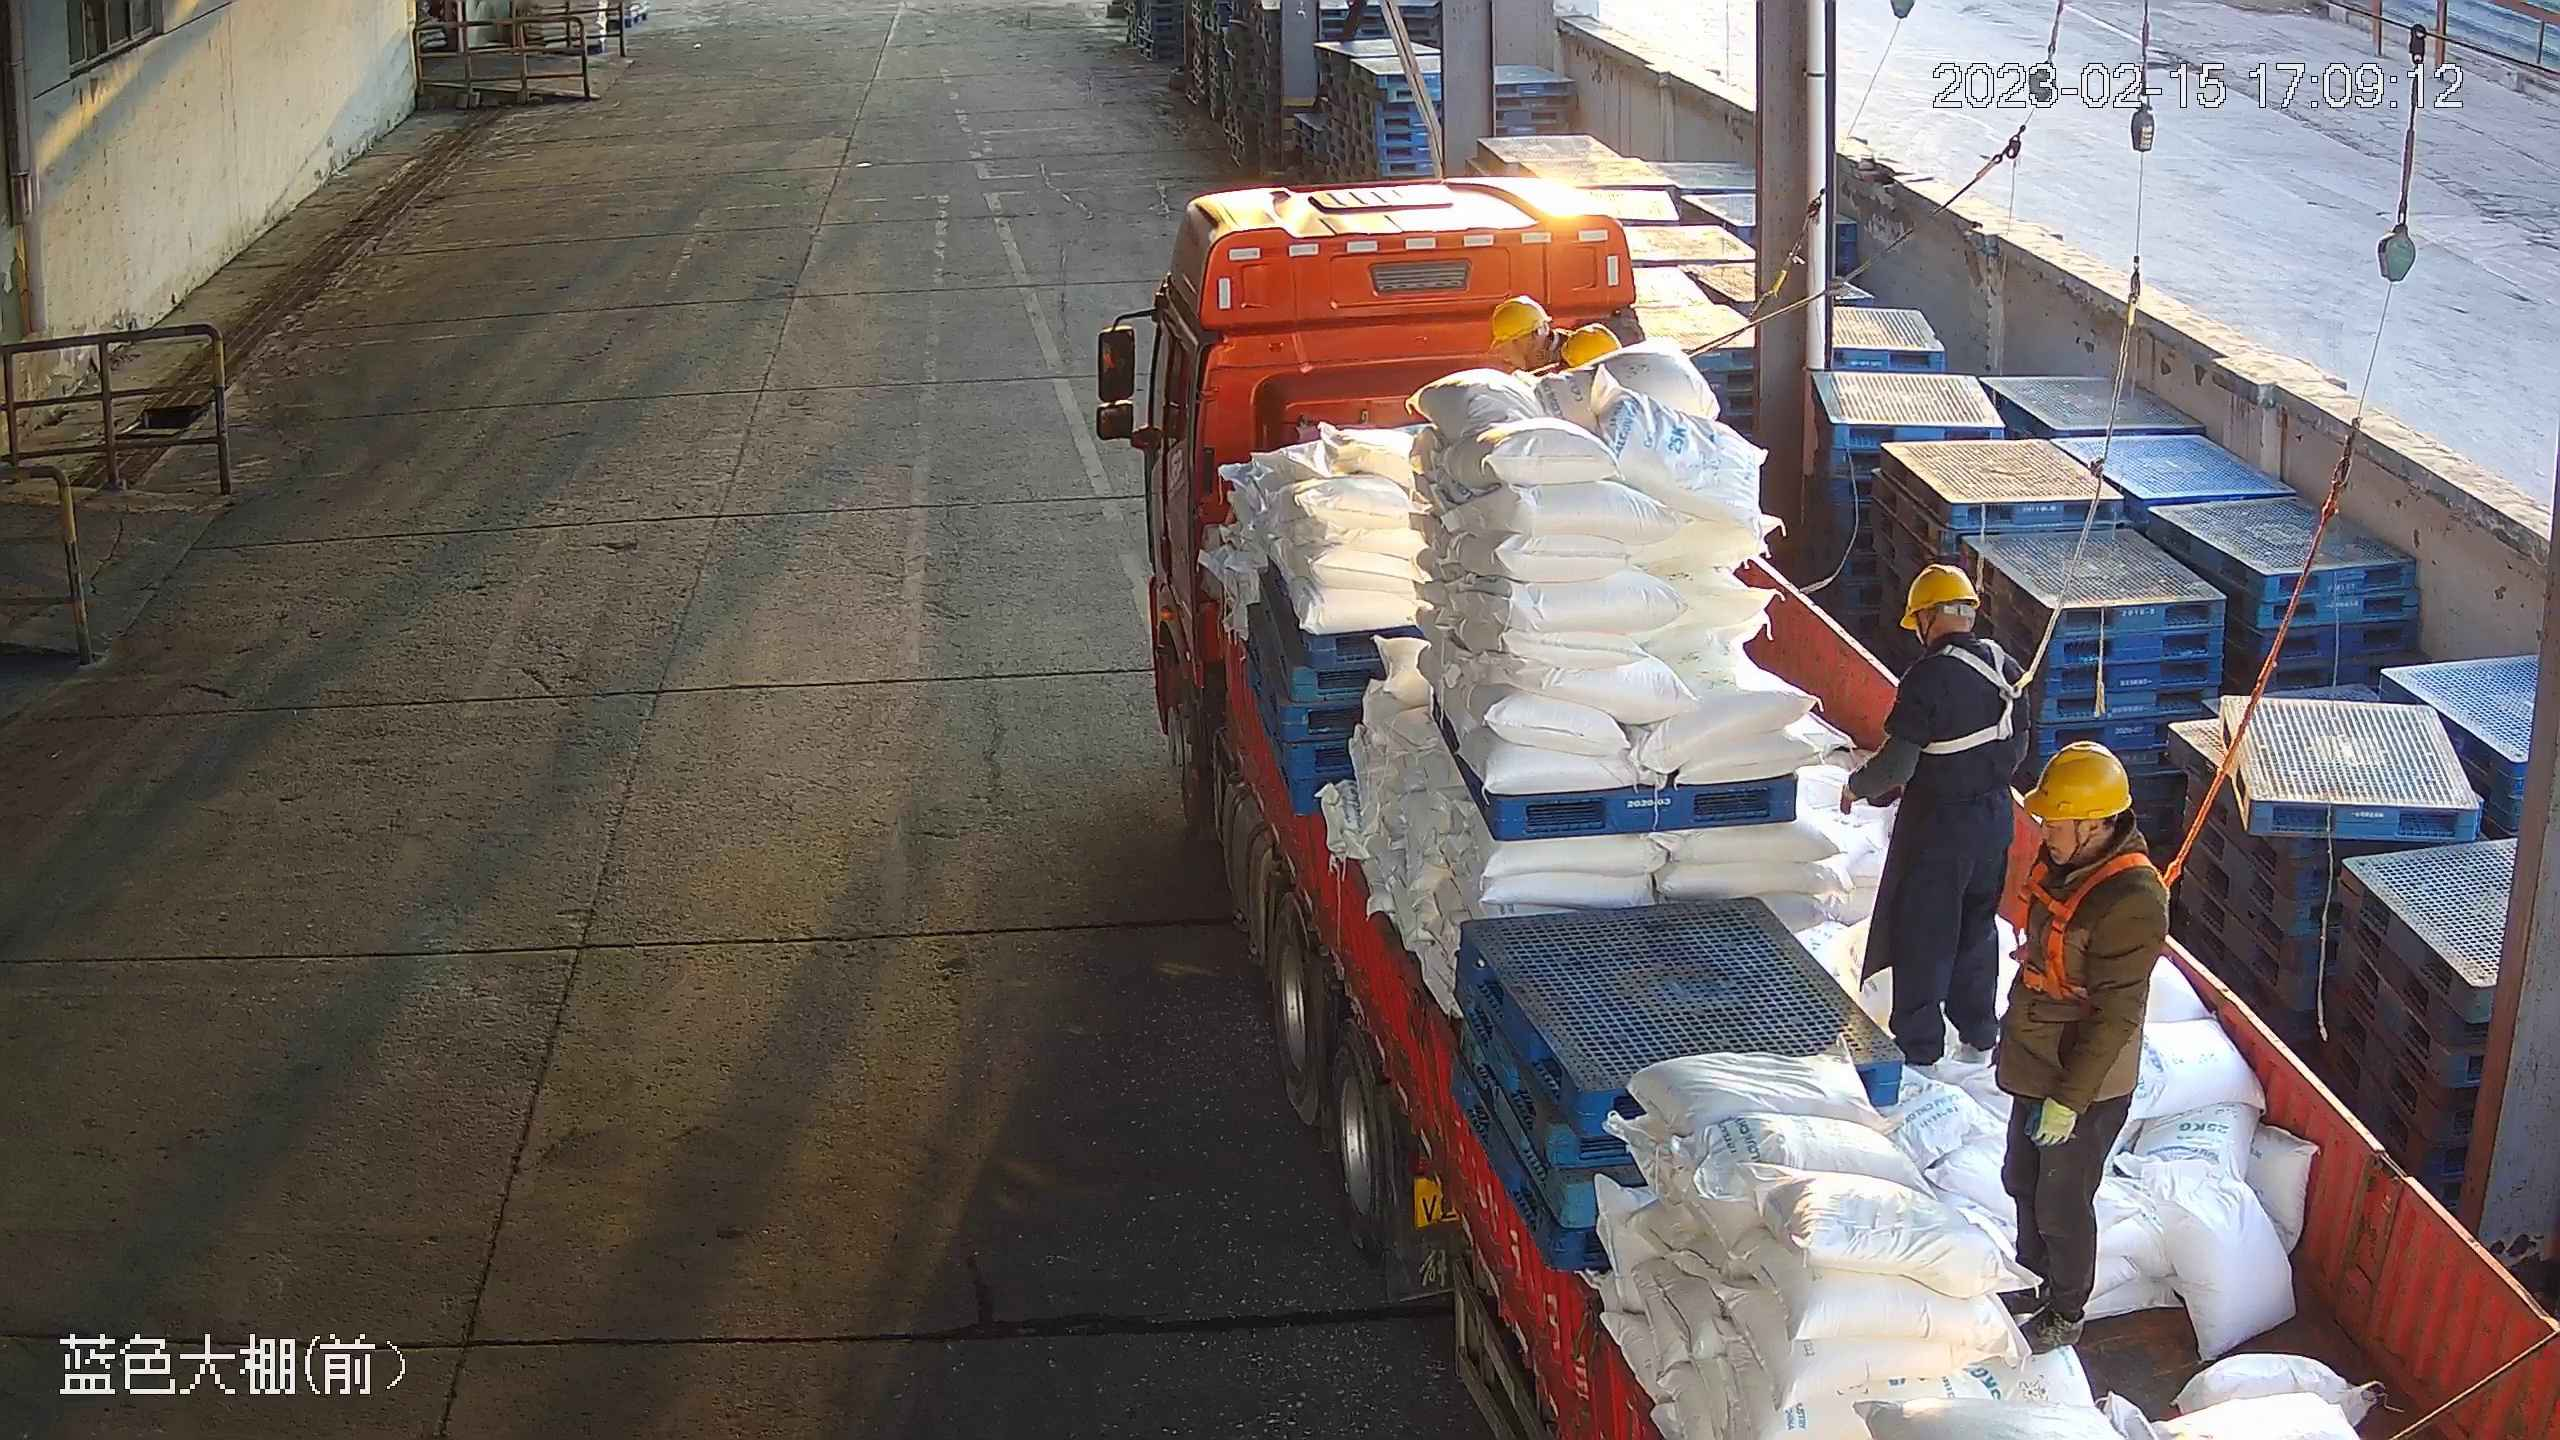belt: (2021, 867, 2149, 995), (1934, 648, 2027, 753)
head: (2020, 739, 2158, 915), (1899, 569, 2028, 695)
helmet: (2023, 739, 2132, 822), (1899, 566, 1989, 632), (1486, 295, 1556, 343), (1565, 325, 1620, 367)
people: (1988, 736, 2165, 1360), (1841, 567, 2037, 1062)
truck: (1084, 172, 2560, 1440)
